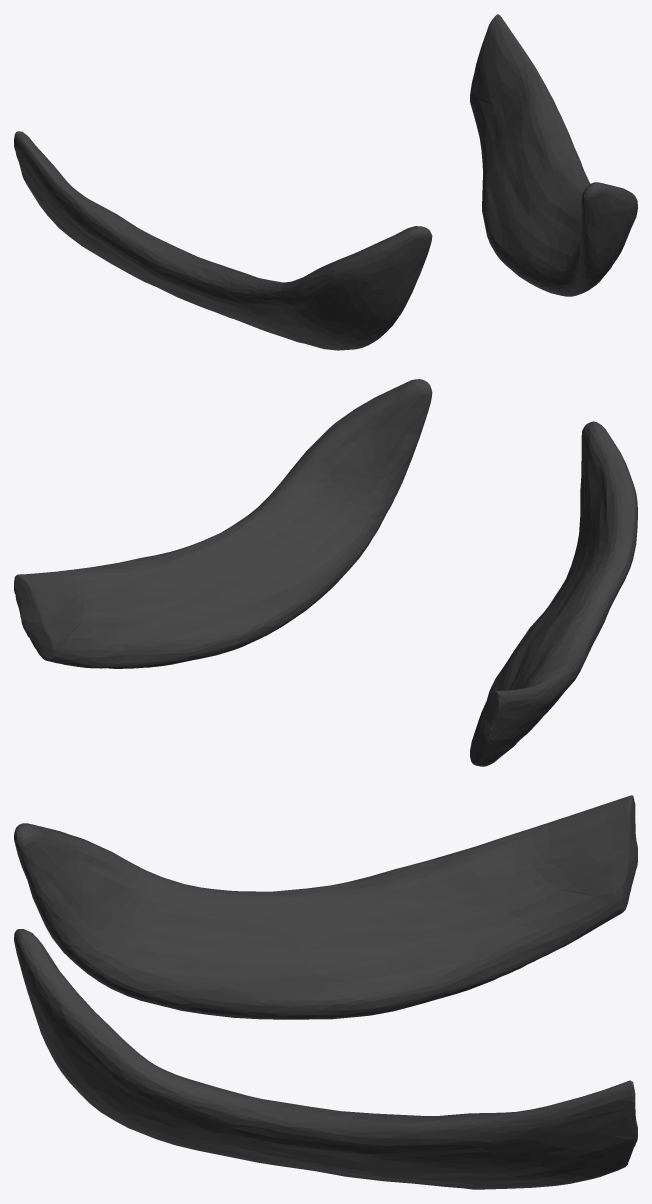
Rendered from m_frontoscutularis.glb.
The picture shows the model from 3 angles, top to bottom: view 1: azimuth 30°, elevation 25°; view 2: azimuth 150°, elevation 25°; view 3: azimuth 270°, elevation 25°; orthographic projection. The views are drawn at different scales.
Parts seen in each view (by area): view 1: m_frontoscutularis; view 2: m_frontoscutularis; view 3: m_frontoscutularis.
Boxes of the visible parts, x1,y1,x2,y2 form: m_frontoscutularis: (14,14,637,350); m_frontoscutularis: (14,379,637,766); m_frontoscutularis: (14,795,637,1189).
Size of the model in its own units: 0.00256 by 0.000891 by 0.00232.
1 material, 1 textured.
